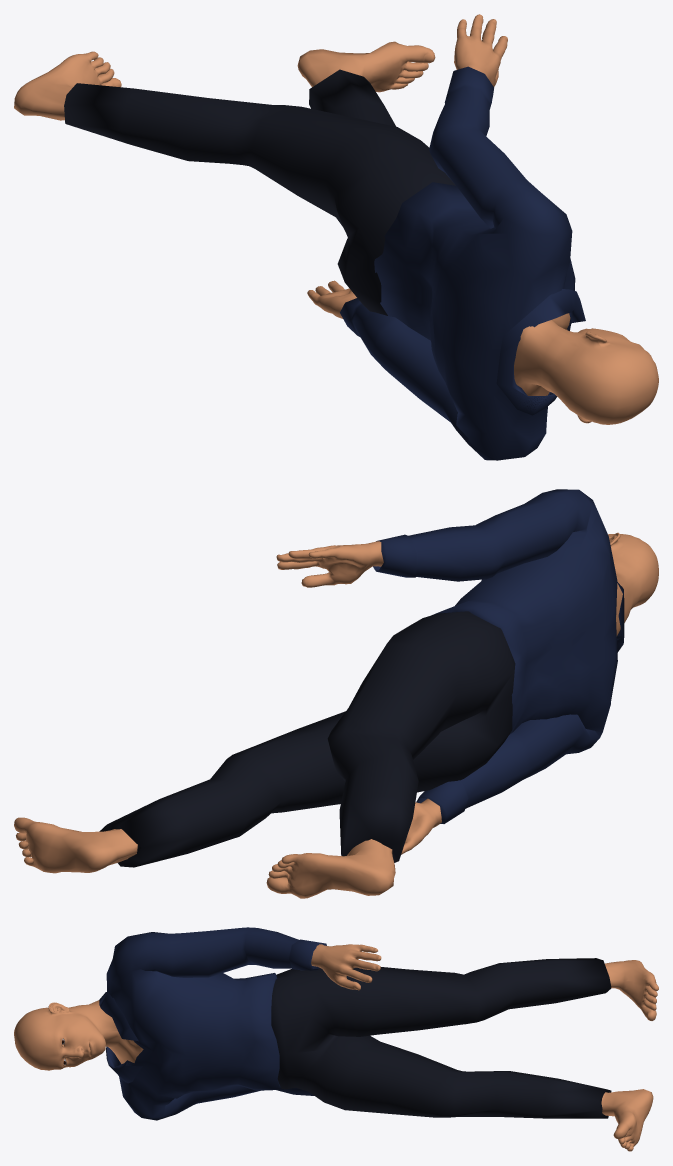
Rendered from walk.obj.
The picture shows the model from 3 angles, top to bottom: view 1: azimuth 30°, elevation 25°; view 2: azimuth 150°, elevation 25°; view 3: azimuth 270°, elevation 25°; orthographic projection. The views are drawn at different scales.
Size of the model in its own units: 0.8598 by 0.5923 by 1.67.
